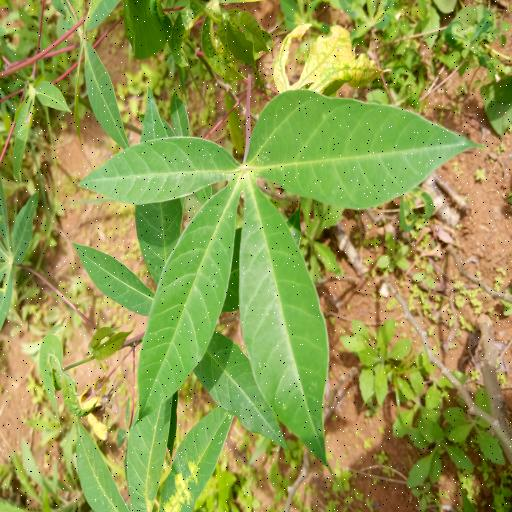Cassava_Healthy: (77, 83, 469, 463)
